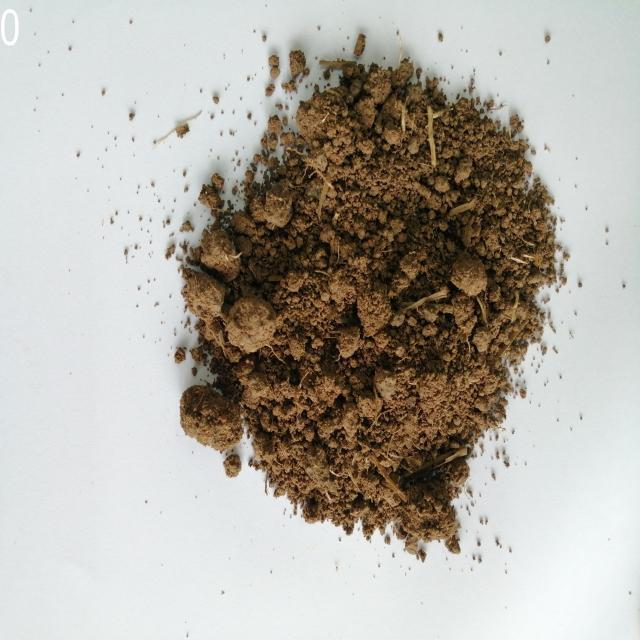soil: (279, 136, 462, 436)
